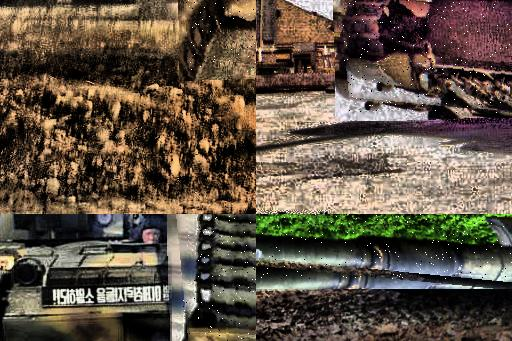tanks: (1, 215, 257, 341), (344, 1, 512, 113), (257, 218, 512, 278), (184, 215, 257, 341), (186, 1, 257, 67)
